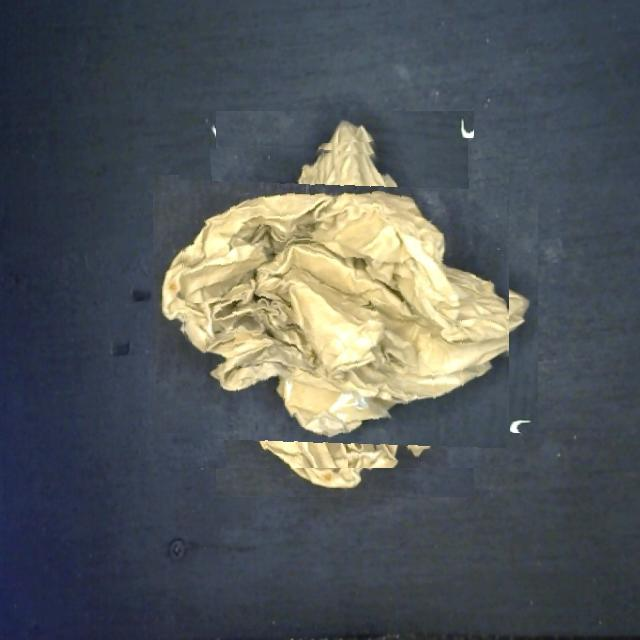biodegradable: (181, 140, 509, 468)
